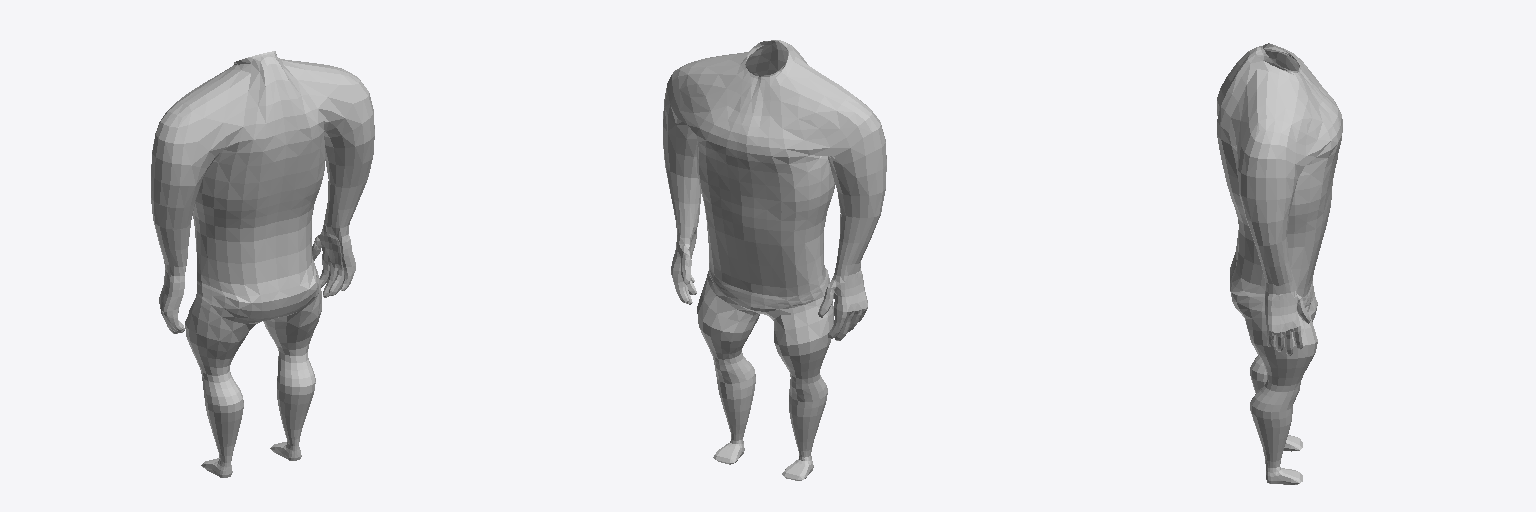
The model's file is playerMODEL_SAHIR.obj.
3 renders of one model, left to right at view 1: azimuth 30°, elevation 25°; view 2: azimuth 150°, elevation 25°; view 3: azimuth 270°, elevation 25°, orthographic.
Visible parts, largest first — view 1: playerBody; view 2: playerBody; view 3: playerBody.
Boxes of the visible parts, x1,y1,x2,y2 form: playerBody: [151, 51, 374, 477]; playerBody: [663, 40, 886, 480]; playerBody: [1217, 43, 1342, 484].
Size of the model in its own units: 2.75 by 5.05 by 1.38.